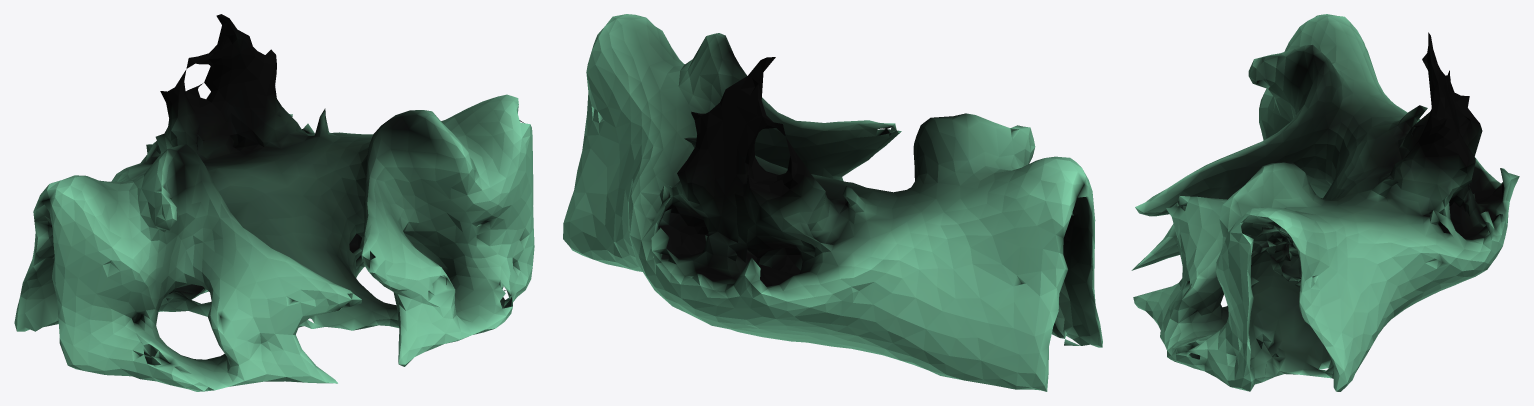
The model's file is Geometry3_lao_11k.dae.
The picture shows the model from 3 angles, left to right: view 1: azimuth 30°, elevation 25°; view 2: azimuth 150°, elevation 25°; view 3: azimuth 270°, elevation 25°; orthographic projection. The views are drawn at different scales.
Visible parts, largest first — view 1: node; view 2: node; view 3: node.
Part boxes in pixels (<box>): node: <box>14,14,534,391</box>; node: <box>563,14,1102,391</box>; node: <box>1131,14,1519,391</box>.
Size of the model in its own units: 95.13 by 52.23 by 71.53.
